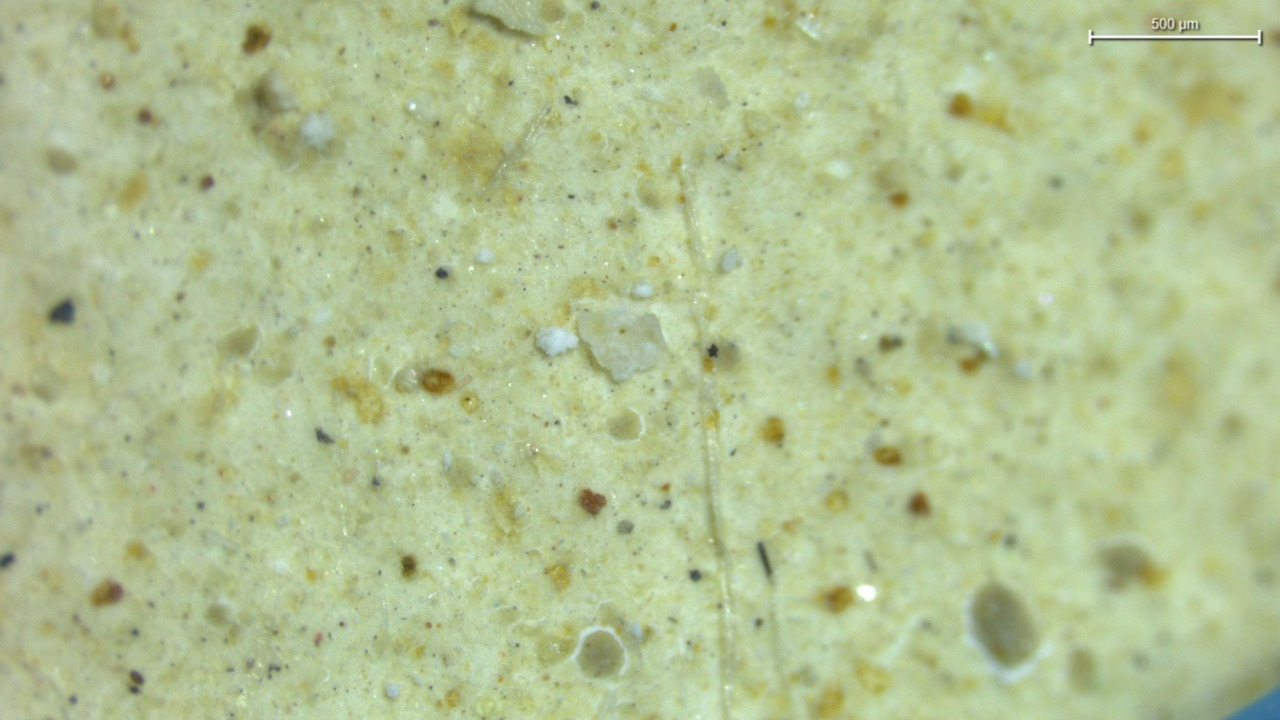microplastic_fragment: (578, 311, 666, 381), (536, 326, 579, 356), (721, 248, 742, 272)
